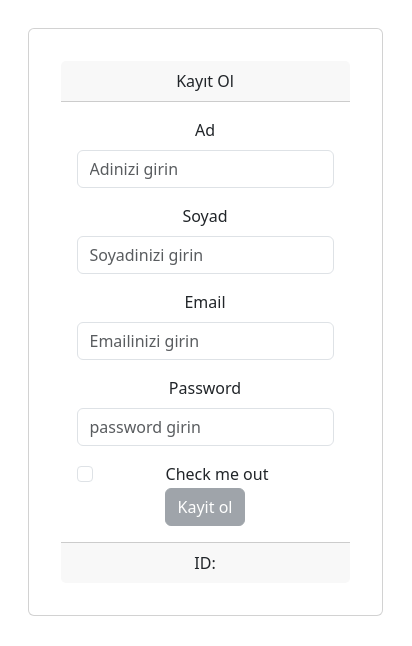
Test: register page › error messages › surname input throws error for 2 chars
Type "ha" into the field with test id "soyad-input" at (206, 255), box [77, 236, 334, 274]
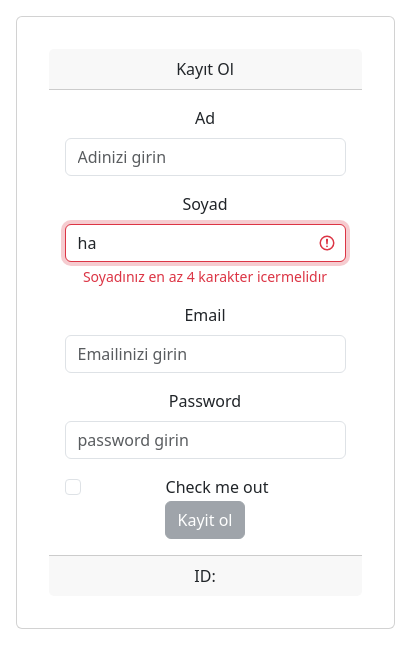
Result: the text "Soyadınız en az 4 karakter icermelidır" is shown at [64, 266, 346, 286]
